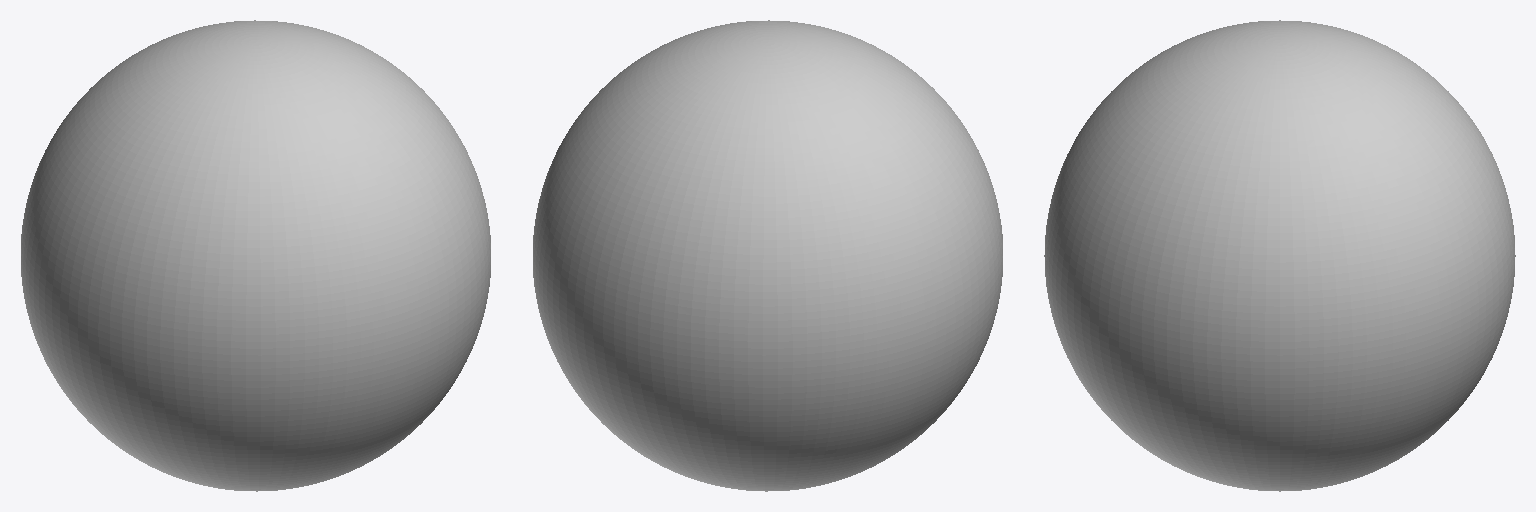
Rendered from skybox.obj.
3 views of the same model, side by side, from view 1: azimuth 30°, elevation 25°; view 2: azimuth 150°, elevation 25°; view 3: azimuth 270°, elevation 25° (orthographic).
Parts seen in each view (by area): view 1: Sphere; view 2: Sphere; view 3: Sphere.
Boxes of the visible parts, box(x1,y1,x2,y2) form: Sphere: box(21, 20, 490, 491); Sphere: box(533, 20, 1002, 491); Sphere: box(1044, 20, 1515, 491).
Size of the model in its own units: 1 by 1 by 1.